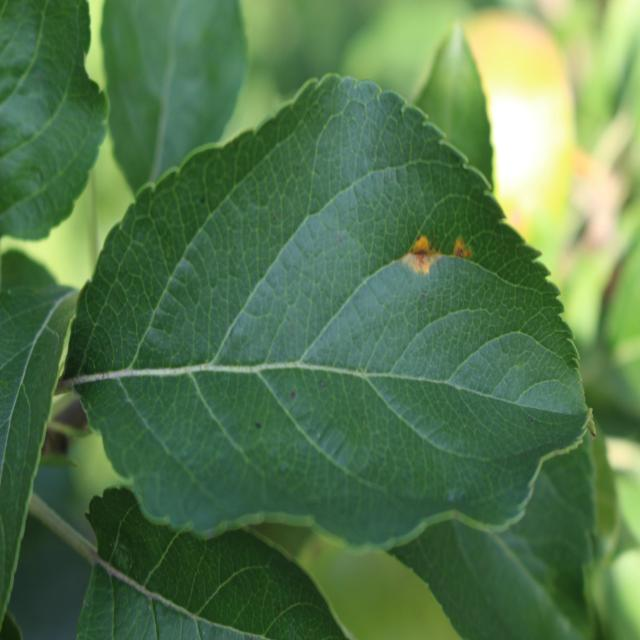Rust: (402, 215, 440, 288), (445, 224, 473, 270)
